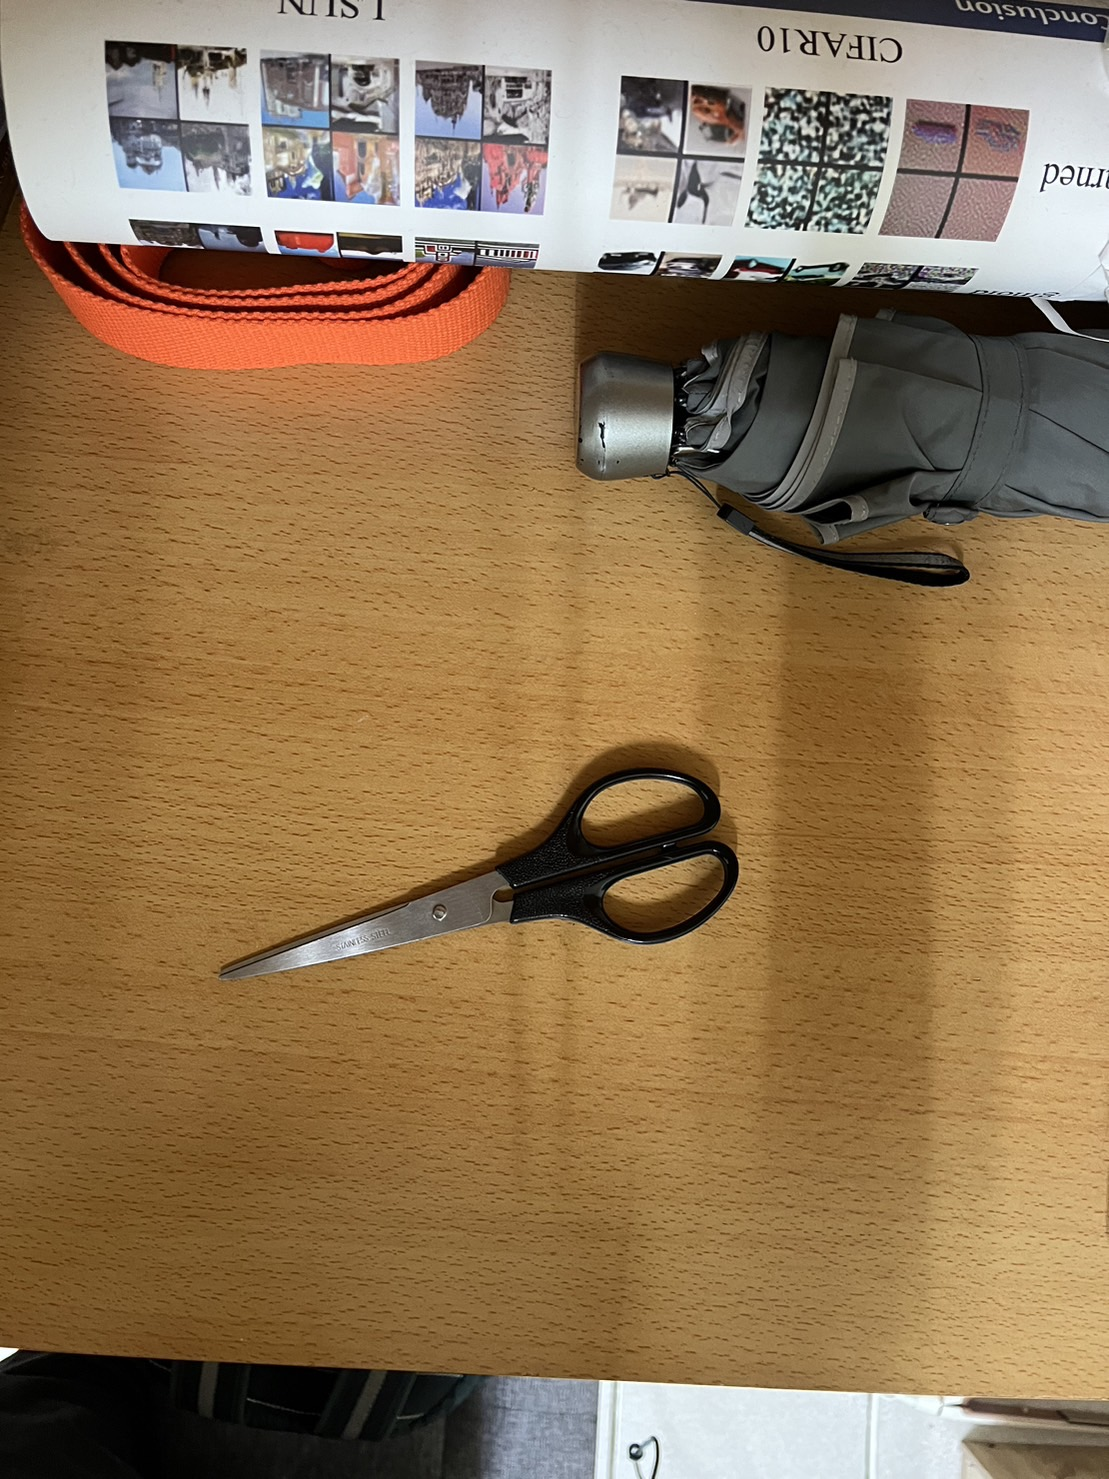scissor: (203, 727, 765, 1011)
